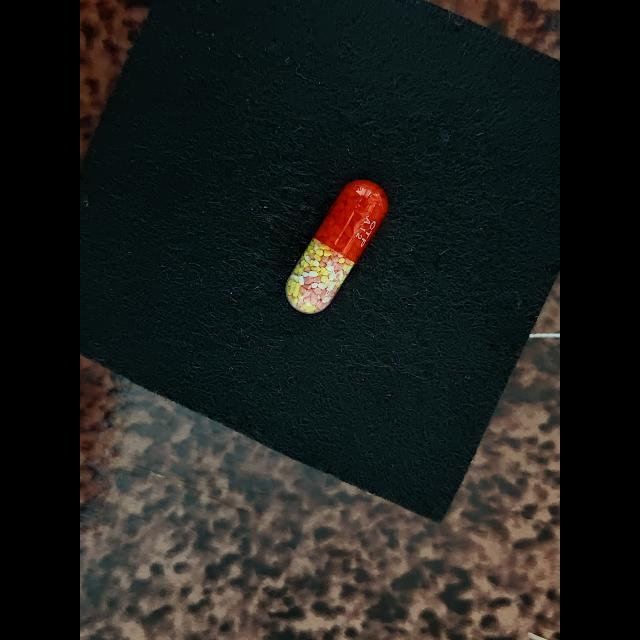Intact Capsule: (285, 180, 388, 314)
